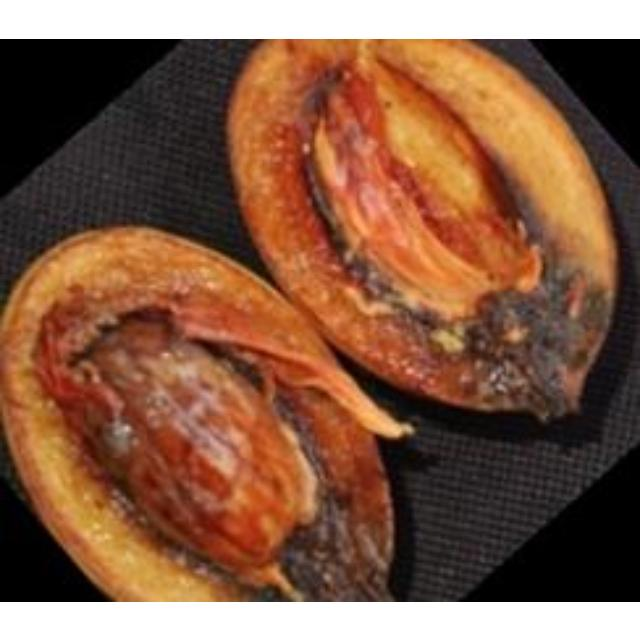damaged: (0, 224, 407, 597), (228, 38, 611, 418)
